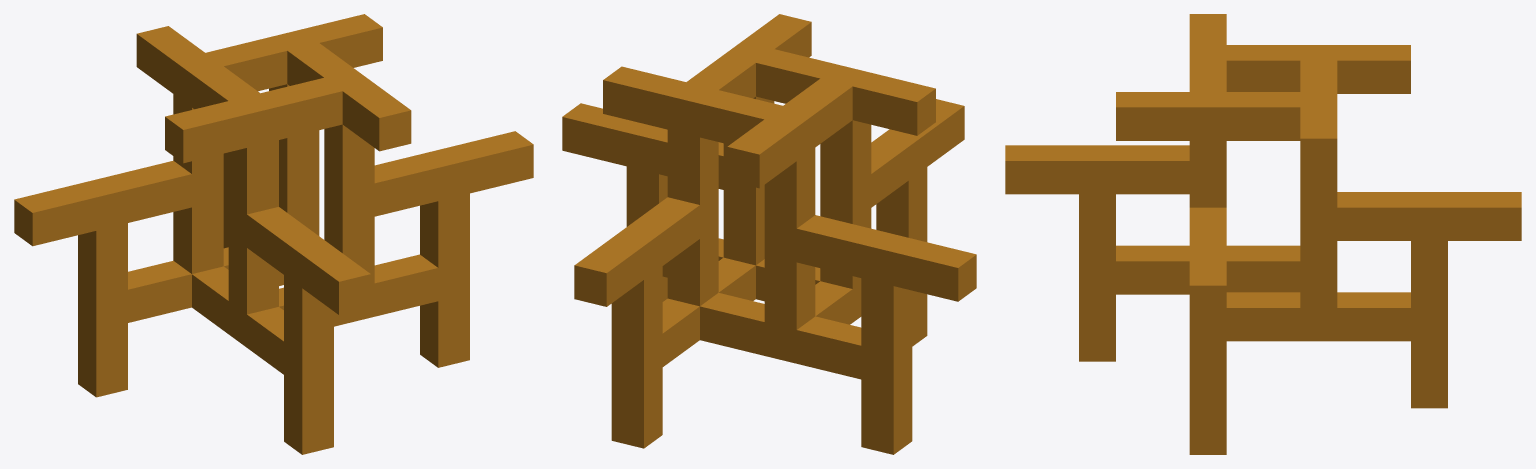
File: rodchenko.fbx
3 renders of one model, left to right at view 1: azimuth 30°, elevation 25°; view 2: azimuth 150°, elevation 25°; view 3: azimuth 270°, elevation 25°, orthographic.
Parts seen in each view (by area): view 1: roddy_grp2; view 2: roddy_grp2; view 3: roddy_grp2.
Boxes of the visible parts, left/top/right/bottom form: roddy_grp2: left=14, top=14, right=533, bottom=454; roddy_grp2: left=562, top=14, right=976, bottom=454; roddy_grp2: left=1005, top=14, right=1521, bottom=454.
Size of what is drawn, in the model's own units: 14 by 9 by 14.
